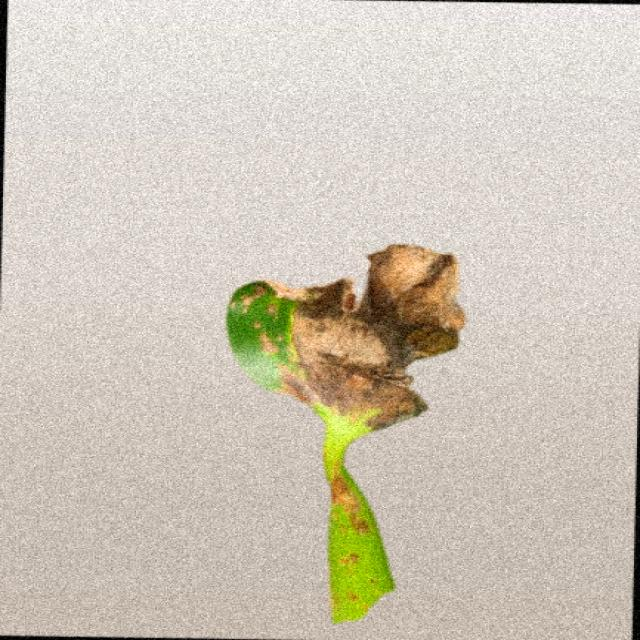daun berpenyakit karat: (227, 245, 465, 622)
